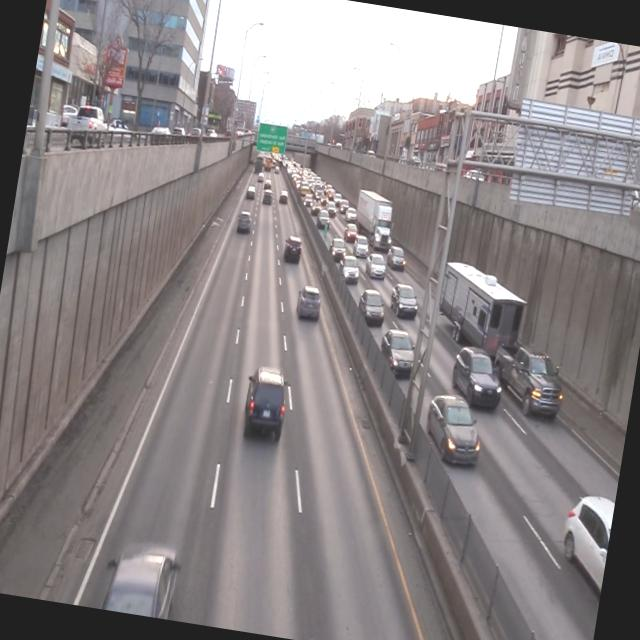Vehicle: (424, 257, 584, 423), (550, 484, 616, 626), (414, 384, 491, 485), (94, 536, 185, 620), (239, 361, 293, 442), (445, 344, 509, 410), (350, 188, 400, 252), (376, 326, 422, 380), (386, 280, 424, 322), (356, 286, 390, 328), (293, 286, 322, 324), (280, 233, 308, 270), (337, 252, 364, 285), (362, 248, 388, 280), (384, 241, 408, 272), (234, 210, 256, 236), (352, 234, 370, 259), (278, 189, 290, 206), (262, 188, 273, 206)
